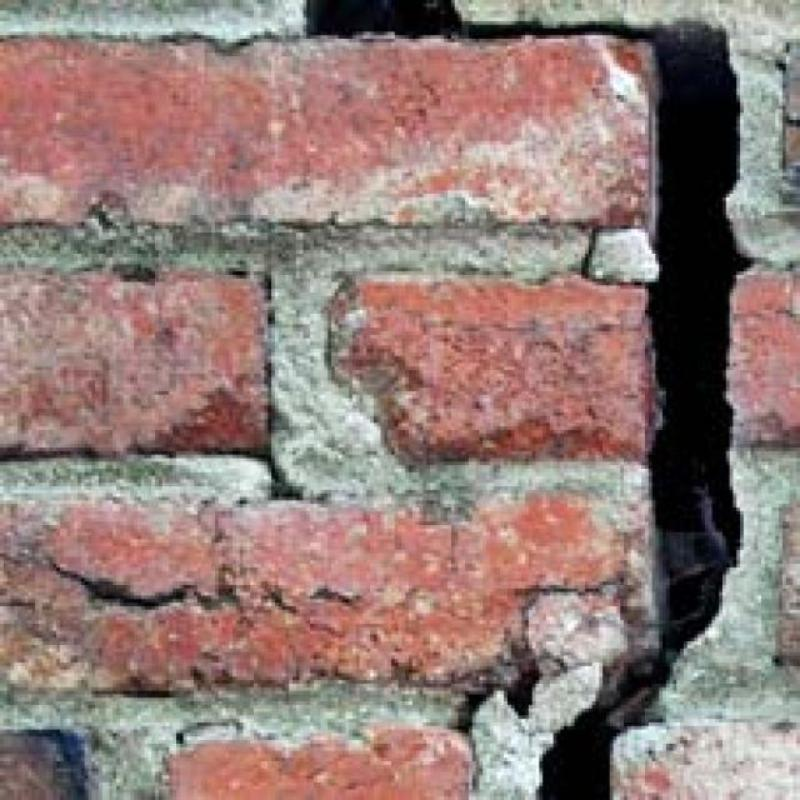pothole: (306, 0, 744, 800), (52, 556, 184, 607), (456, 659, 539, 734)
